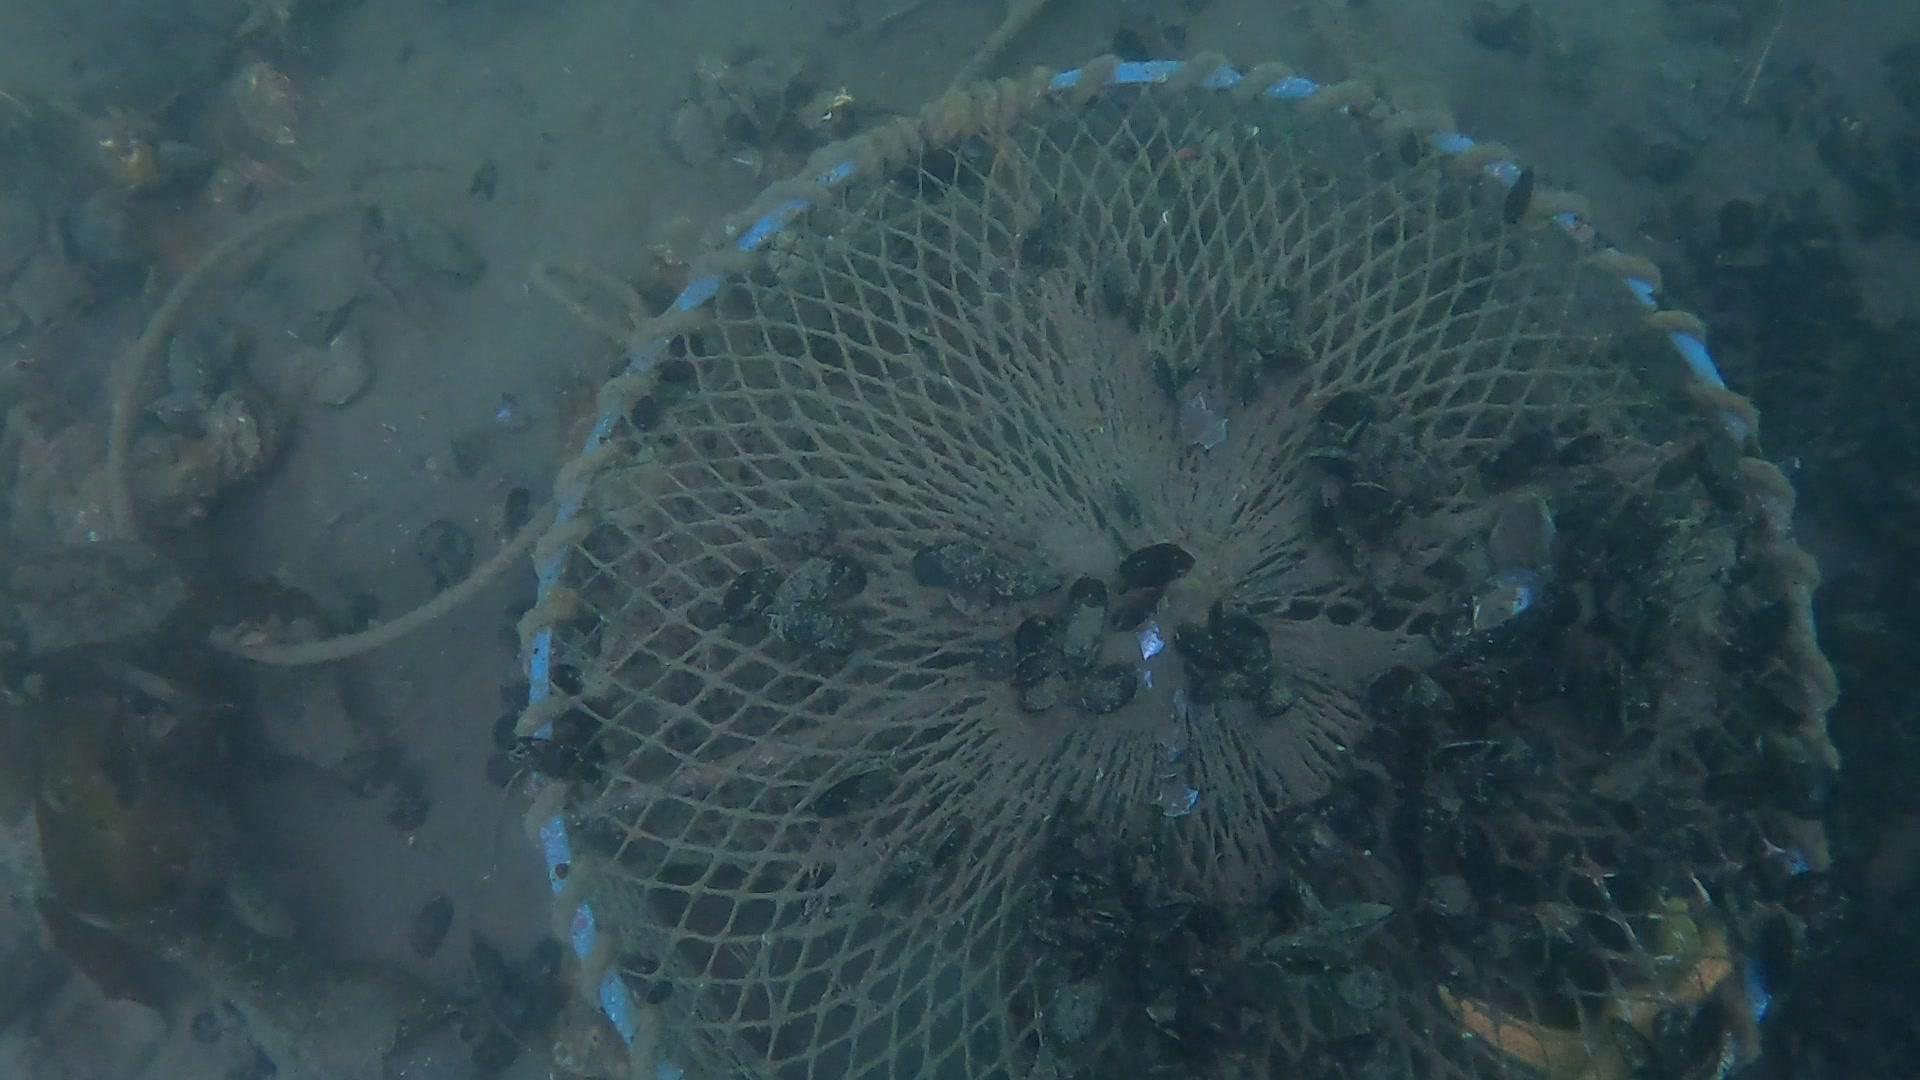bundle of ropes: (96, 196, 560, 673)
circular fish trap: (510, 46, 1855, 1080)
